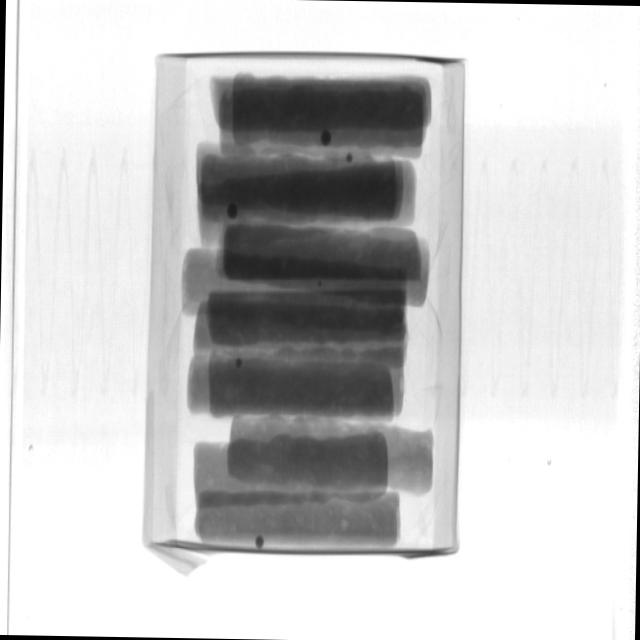ym: (320, 130, 333, 147), (226, 204, 238, 220), (234, 356, 243, 371), (255, 535, 265, 548), (317, 279, 324, 292), (347, 153, 355, 162)
